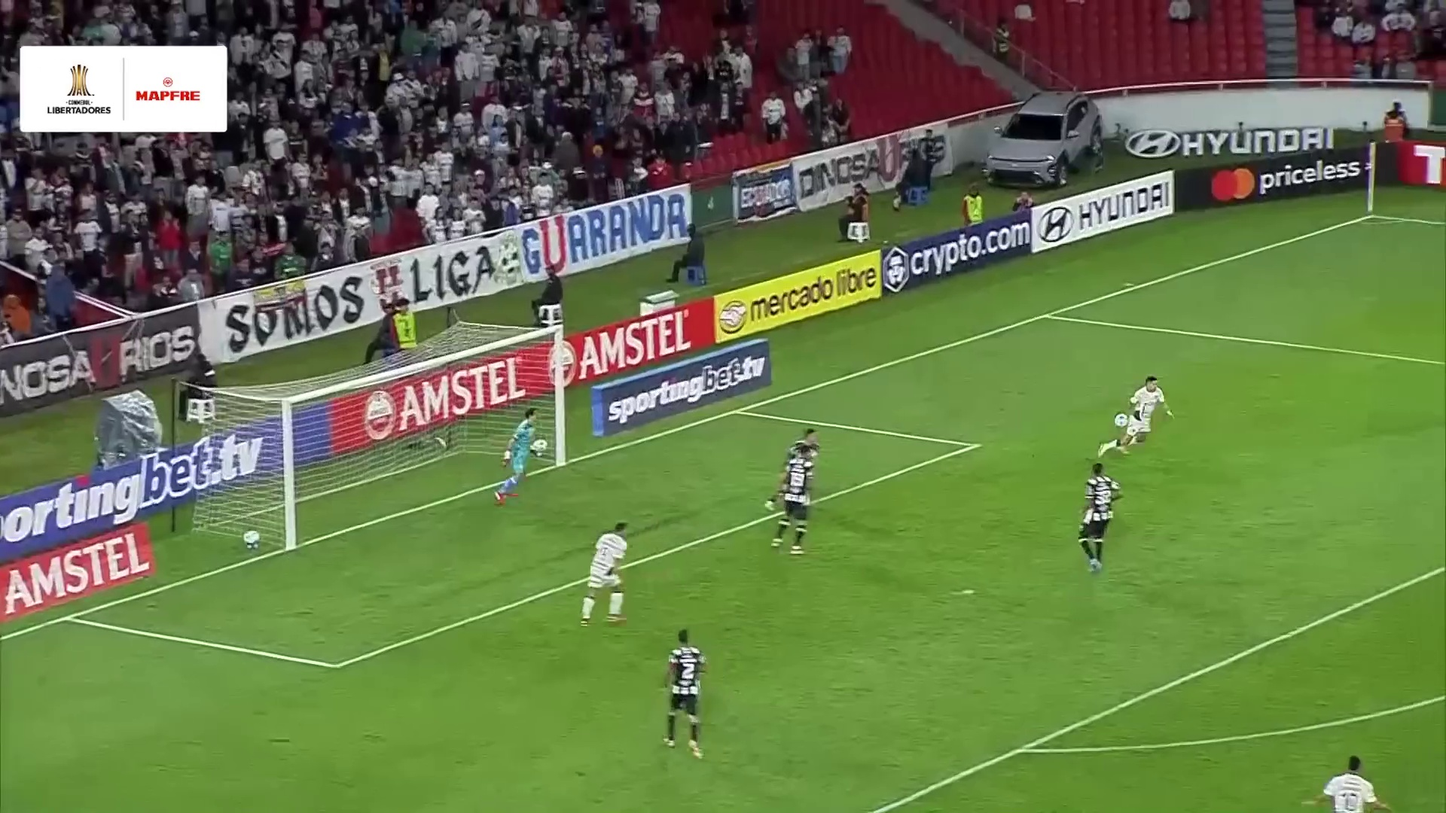ball: (1113, 412, 1129, 427)
player: (656, 627, 713, 758), (575, 520, 634, 631), (765, 440, 821, 556), (1097, 376, 1176, 458), (1070, 460, 1125, 576), (490, 408, 551, 507), (1308, 753, 1397, 813), (763, 427, 824, 508)
